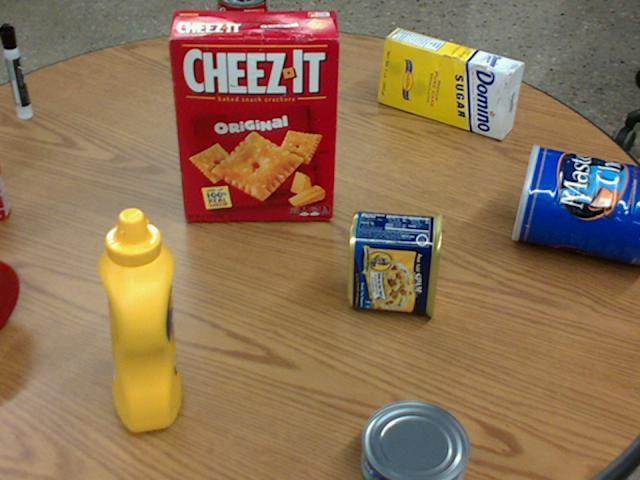cracker_box: (169, 10, 340, 220)
gelatin_box: (0, 153, 11, 218)
large_marker: (0, 23, 32, 117)
master_chef_can: (511, 144, 639, 266)
mug: (0, 257, 21, 328)
mustard_bottle: (96, 207, 181, 430)
potted_meat_can: (348, 211, 441, 317)
sugar_box: (379, 27, 526, 138)
tomato_soup_can: (218, 0, 268, 72)
tuna_fish_can: (359, 400, 467, 479)
